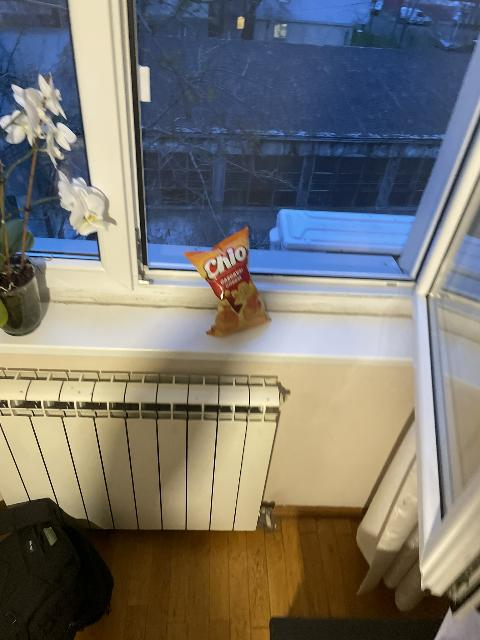Chio Cascaval 125g: (183, 227, 273, 335)
